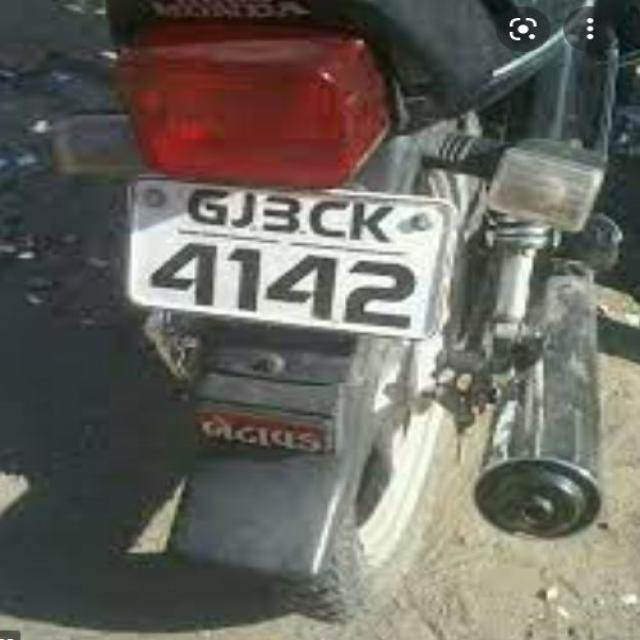number plate: (120, 172, 456, 341)
